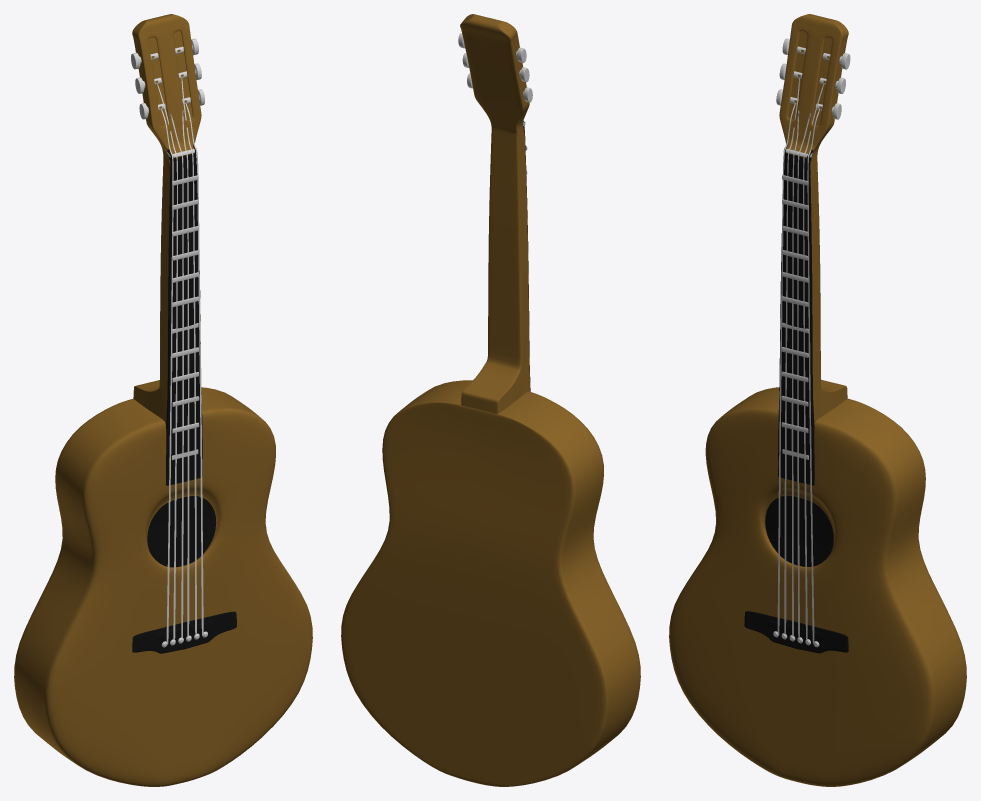
File: guitar_ead85ab8.glb
The picture shows the model from 3 angles, left to right: view 1: azimuth 30°, elevation 25°; view 2: azimuth 150°, elevation 25°; view 3: azimuth 330°, elevation 25°; orthographic projection.
Parts seen in each view (by area): view 1: Cube (×2), Cube.002 (×2), Cube.003, Cube.001, Cube.005, Cube.004; view 2: Cube, Cube.002, Cube.004; view 3: Cube (×2), Cube.002 (×2), Cube.003, Cube.001, Cube.005, Cube.004.
Boxes of the visible parts, x1,y1,x2,y2 form: Cube (×2): [14, 387, 312, 786]; Cube.002 (×2): [132, 14, 202, 485]; Cube.003: [157, 78, 203, 644]; Cube.001: [132, 611, 236, 653]; Cube.005: [171, 175, 199, 460]; Cube.004: [131, 38, 204, 119]; Cube: [341, 380, 640, 786]; Cube.002: [460, 14, 530, 413]; Cube.004: [458, 33, 532, 102]; Cube (×2): [669, 387, 966, 786]; Cube.002 (×2): [778, 14, 848, 485]; Cube.003: [777, 78, 823, 643]; Cube.001: [744, 611, 848, 653]; Cube.005: [781, 175, 808, 459]; Cube.004: [776, 38, 850, 119].
Size of the model in its own units: 3.57 by 9.55 by 0.9472.
